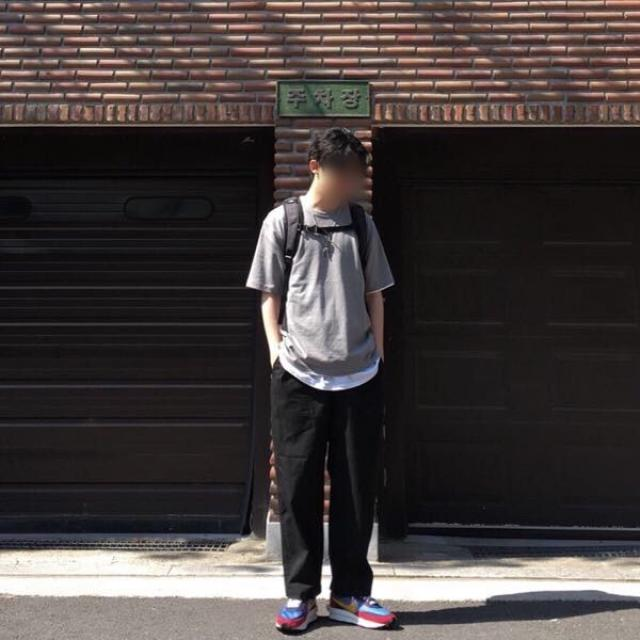cottonpants: (272, 354, 381, 599)
shortsleeve: (248, 190, 396, 377)
